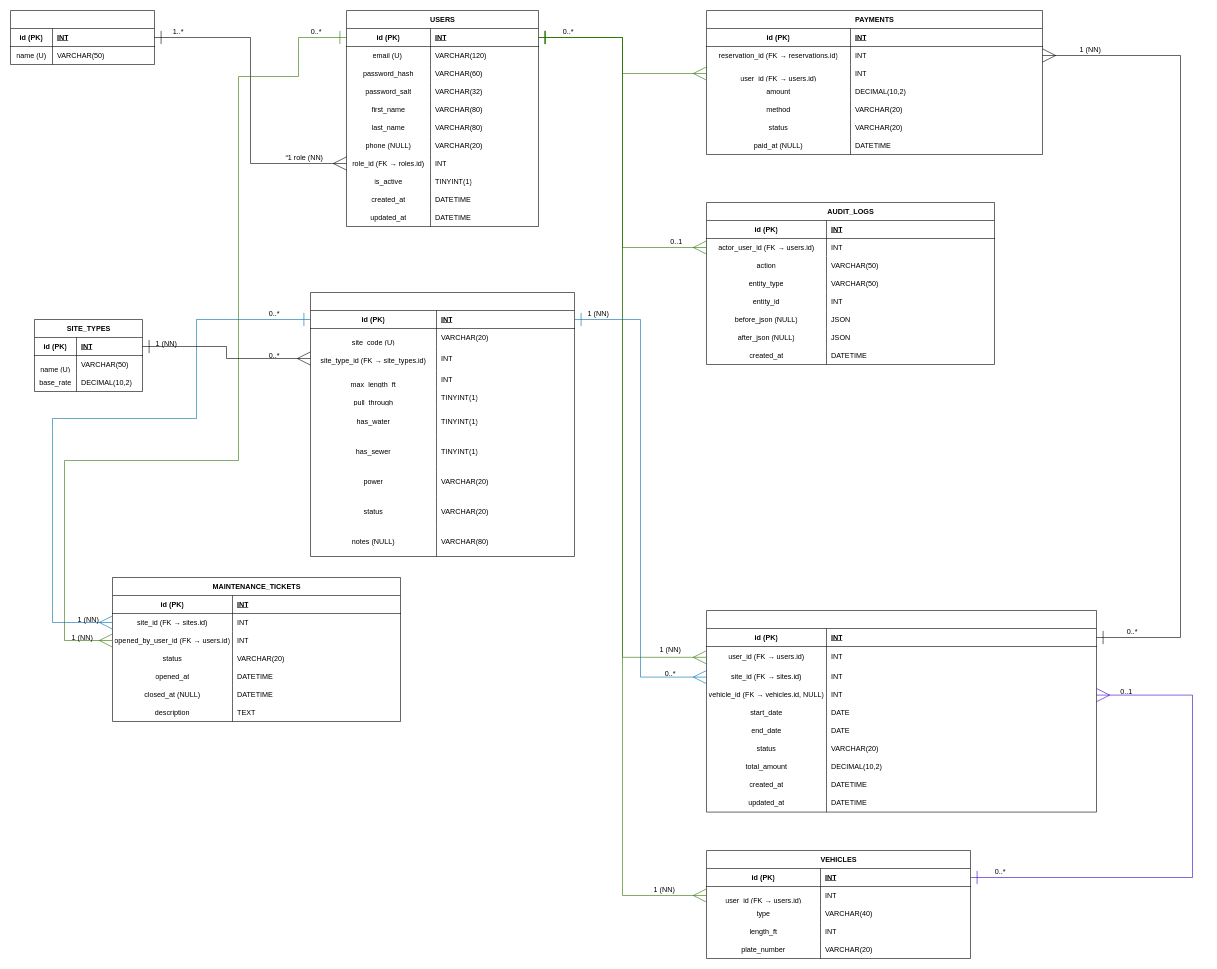
The diagram is 1217 pixels wide and 969 high, and some of its shapes have lost their labels. The shapes that lost their labels are listed below. From the top down, each one's box as (x1, y1, x2, y2) in pixels, then its label:
(10, 10, 154, 64): ROLES
(310, 292, 574, 556): SITES
(706, 610, 1096, 812): RESERVATIONS
